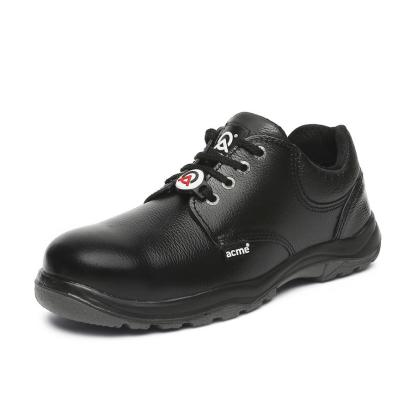bota: (31, 108, 384, 335)
